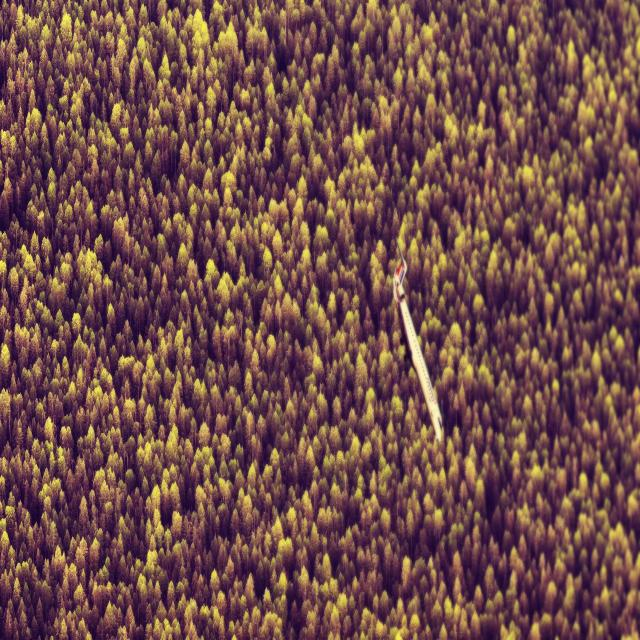airplane: (392, 237, 442, 443)
